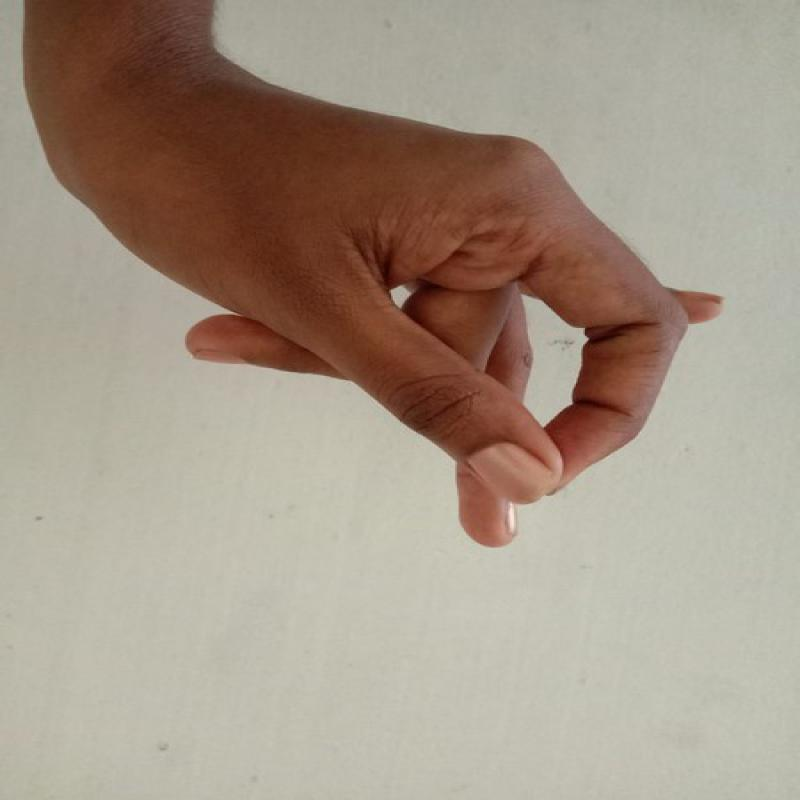Katakam: (137, 81, 769, 565)
